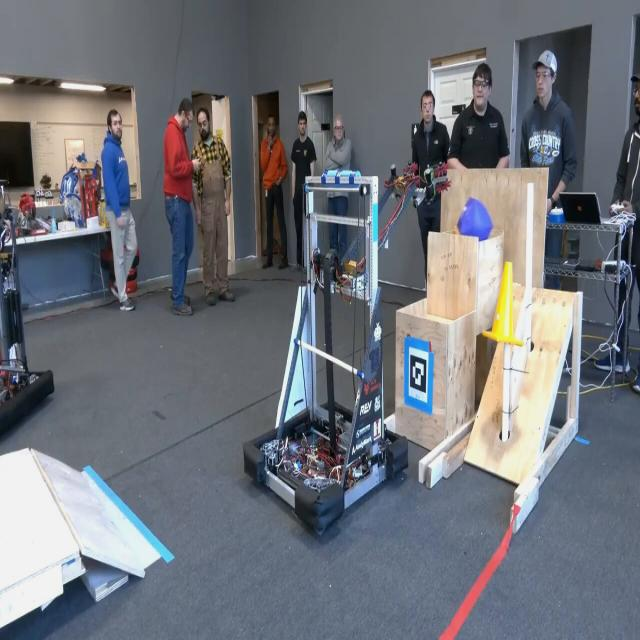frc_cone: (484, 260, 521, 346)
frc_cube: (458, 196, 493, 241)
